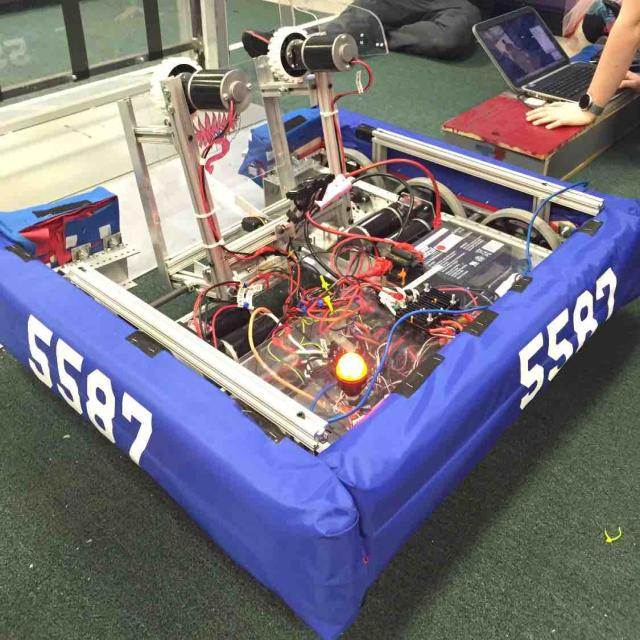robot: (3, 31, 639, 596)
